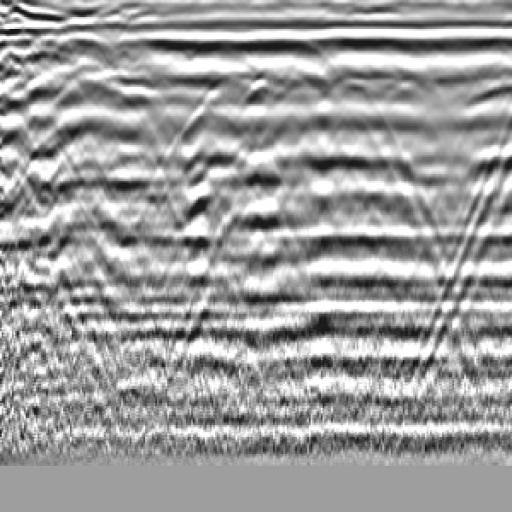metalic: (228, 55, 290, 128)
